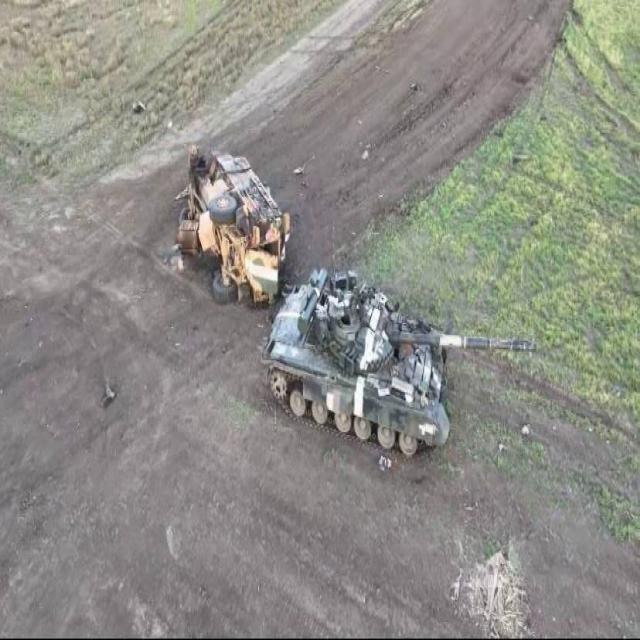Destroyed: (173, 138, 292, 310)
MBT: (262, 267, 539, 464)
